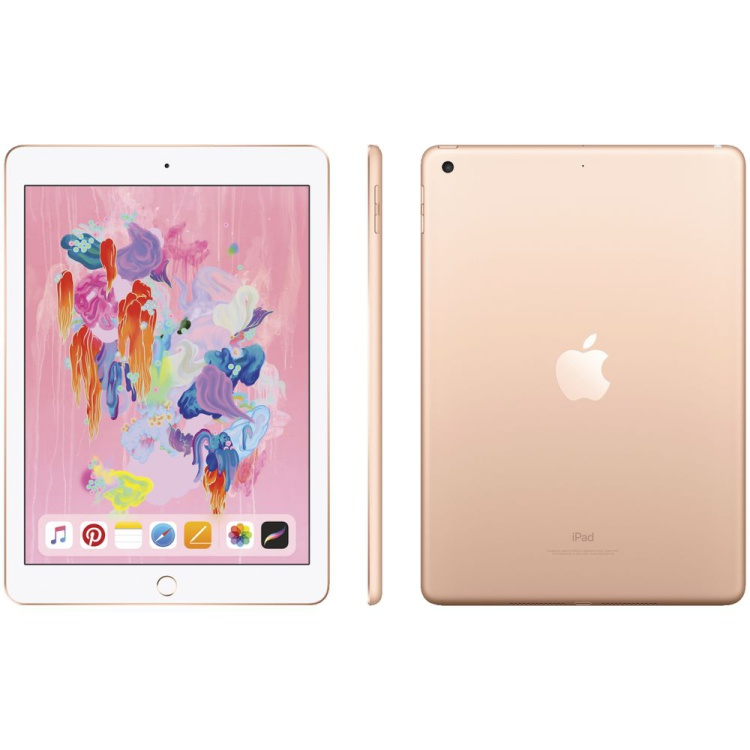apple: (519, 298, 645, 437)
